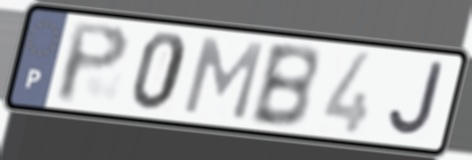0: (127, 29, 188, 114)
4: (319, 49, 376, 139)
B: (246, 43, 321, 132)
J: (385, 59, 446, 141)
M: (178, 35, 267, 124)
P: (53, 19, 132, 107)
